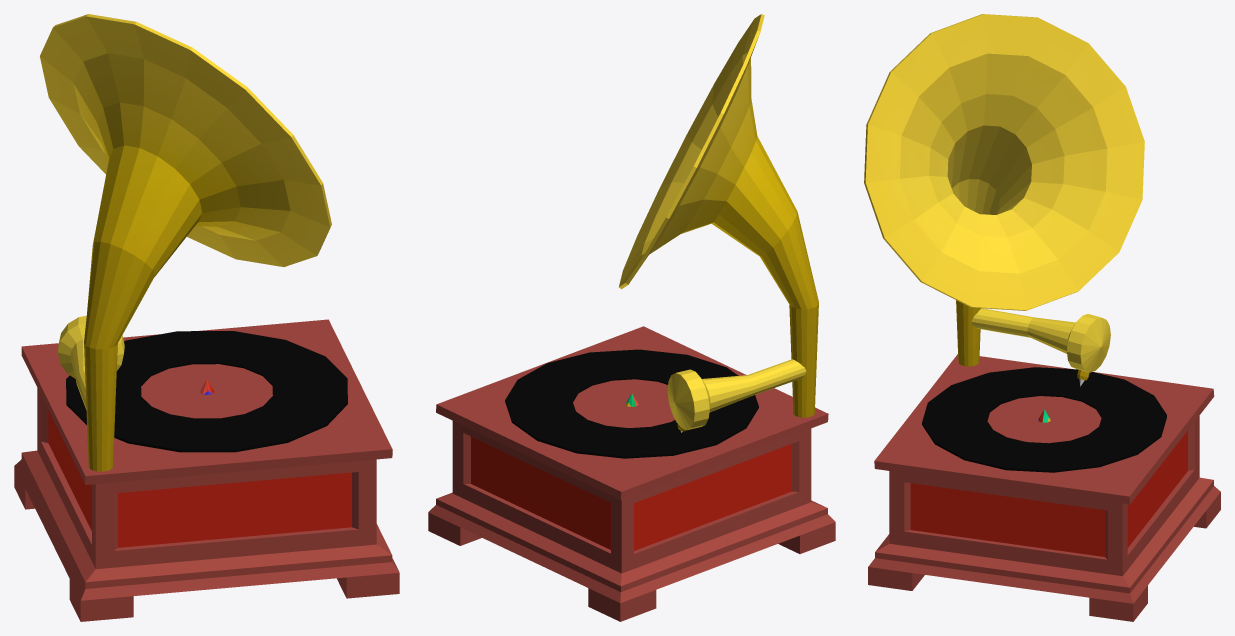
Rendered from MusicPlayer.fbx.
The picture shows the model from 3 angles, left to right: view 1: azimuth 30°, elevation 25°; view 2: azimuth 150°, elevation 25°; view 3: azimuth 270°, elevation 25°; orthographic projection. The views are drawn at different scales.
Parts seen in each view (by area): view 1: MusicPlayer; view 2: MusicPlayer; view 3: MusicPlayer.
Boxes of the visible parts, x1,y1,x2,y2 form: MusicPlayer: (14,14,399,621); MusicPlayer: (428,14,835,621); MusicPlayer: (864,14,1220,621).
Size of the model in its own units: 35.77 by 54.69 by 36.18.
Materials: 1 (1 with a texture image).
